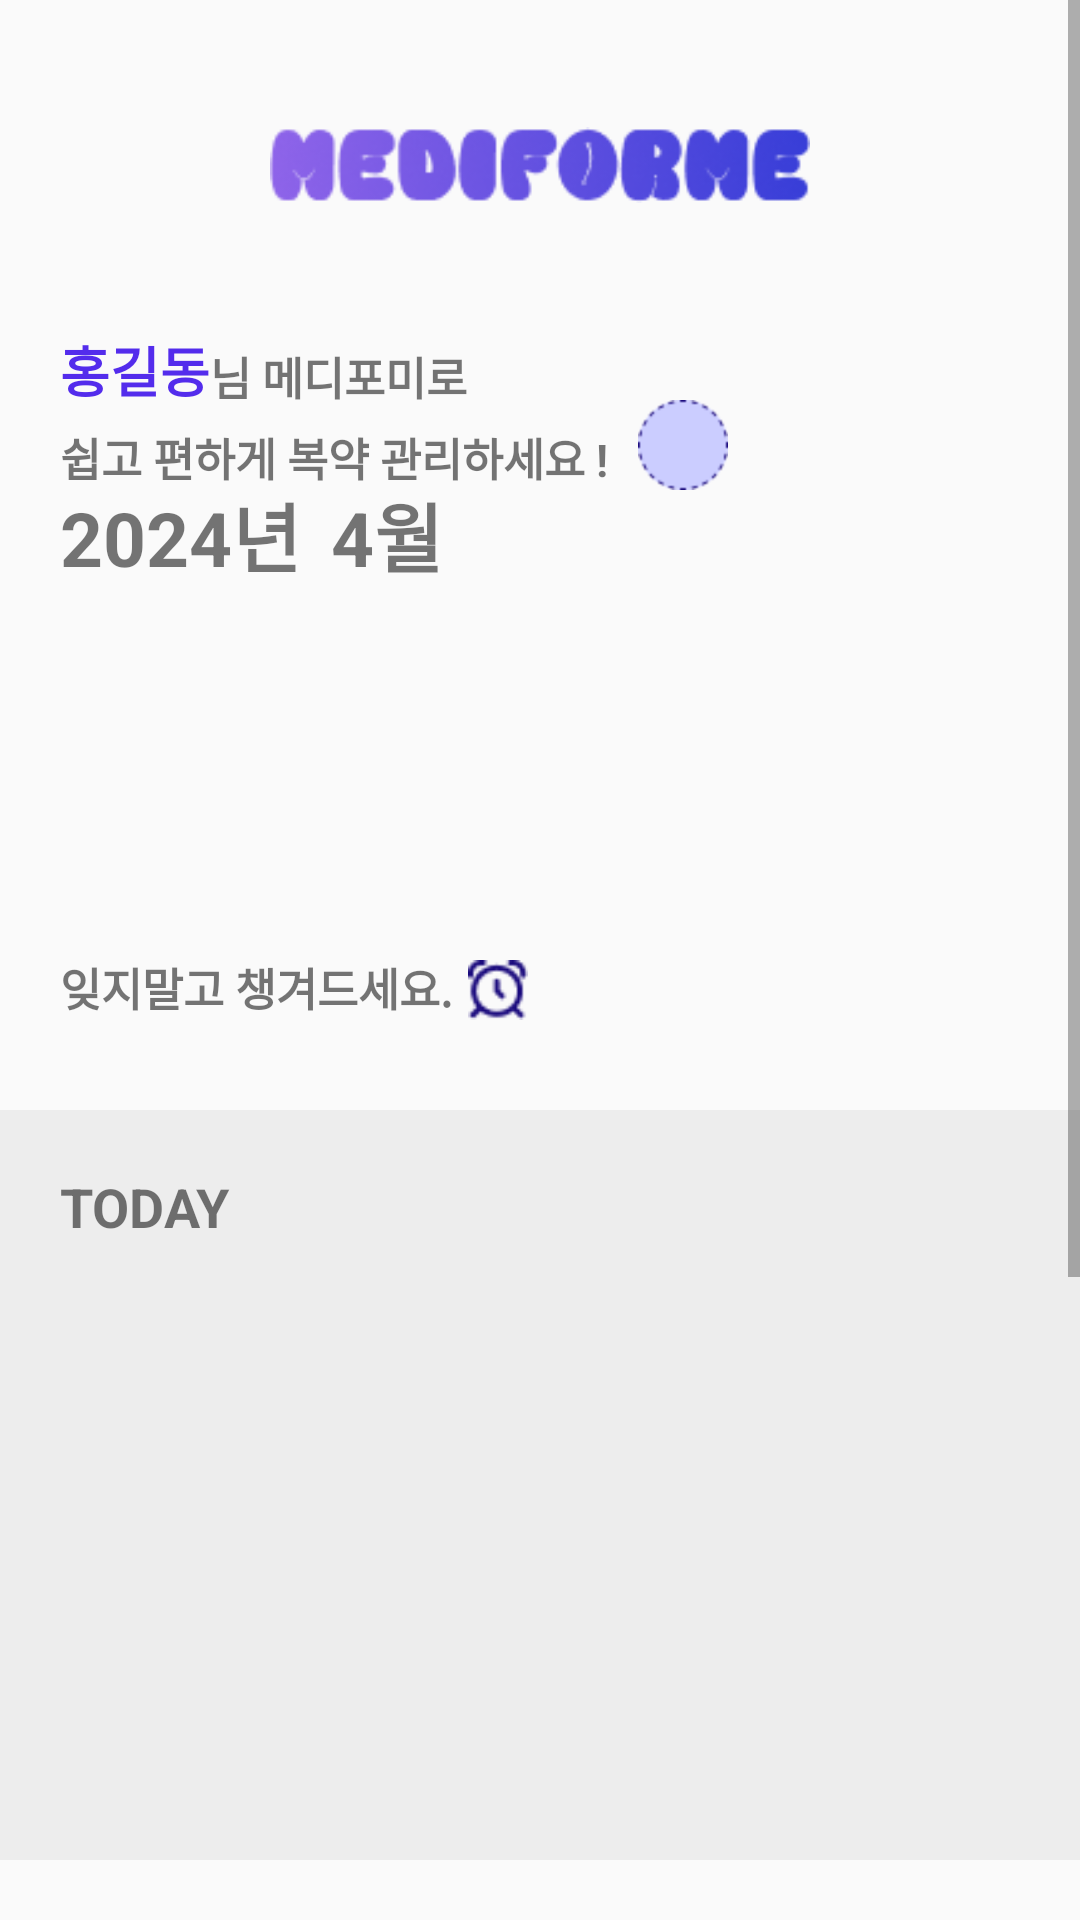

Where to tap for icons on this 1080px×1920px app screen, as [x,y]:
clock: [498,990]
